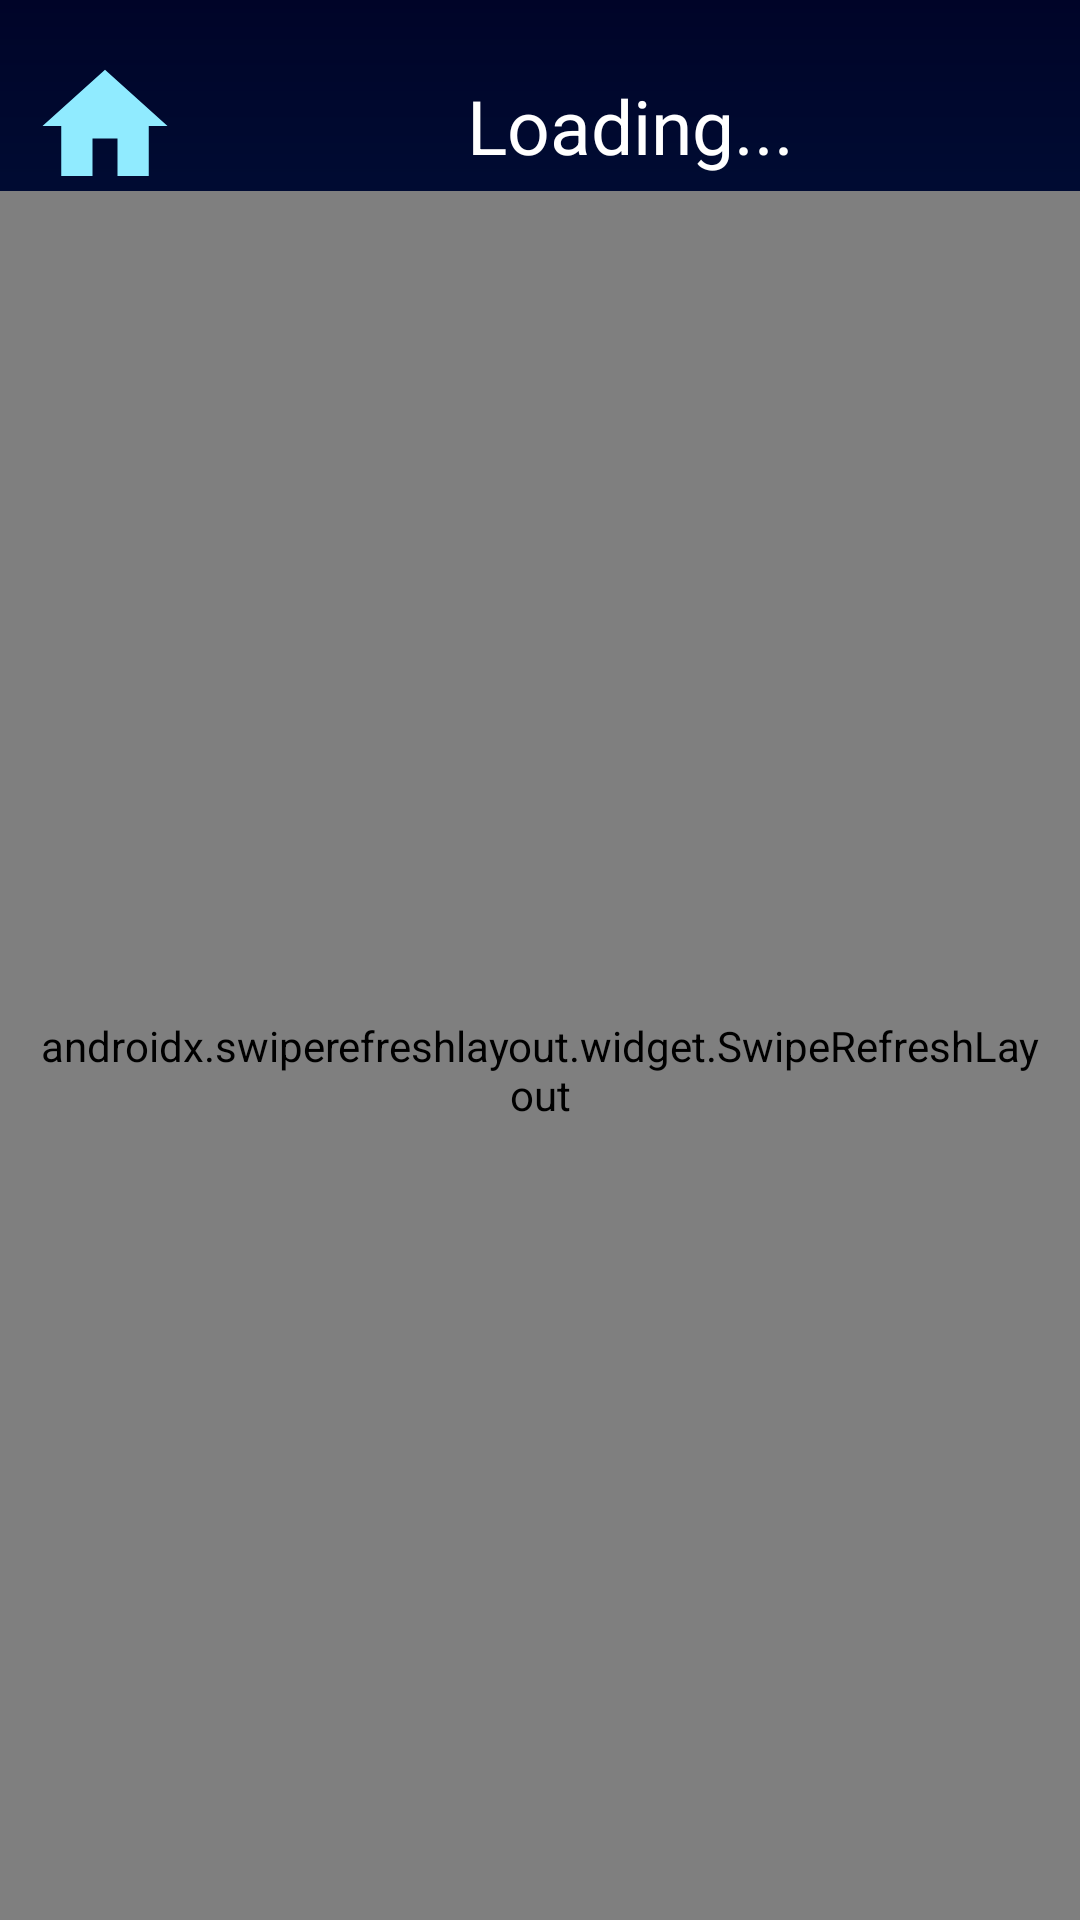

Named icons in this screenshot (1080 × 1920) and their bounding boxes, BBox(x1, y1, x2, y2):
home: BBox(42, 70, 168, 176)
